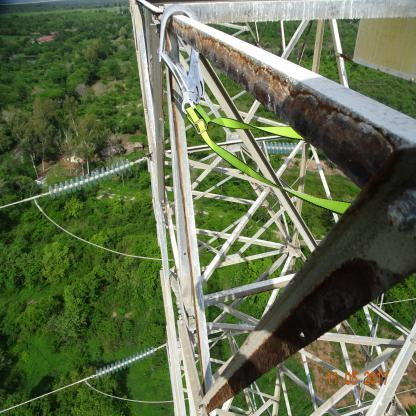Grado3: (184, 26, 400, 188), (200, 248, 398, 414)
